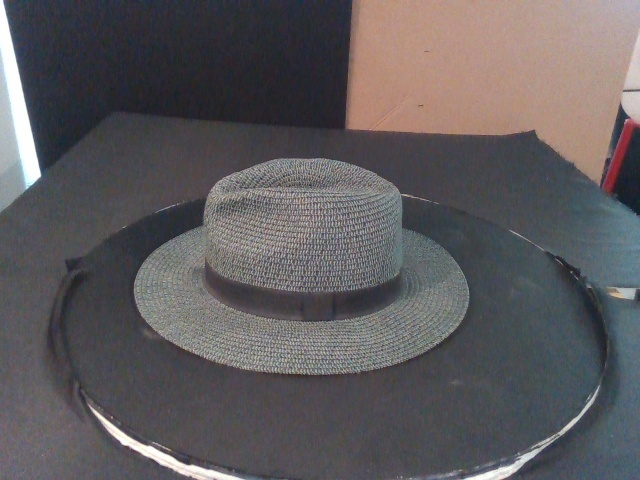hat: (132, 158, 472, 375)
